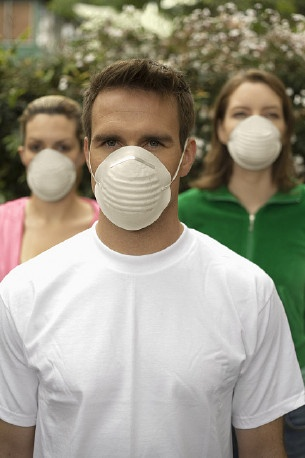Mask: (82, 127, 183, 229)
